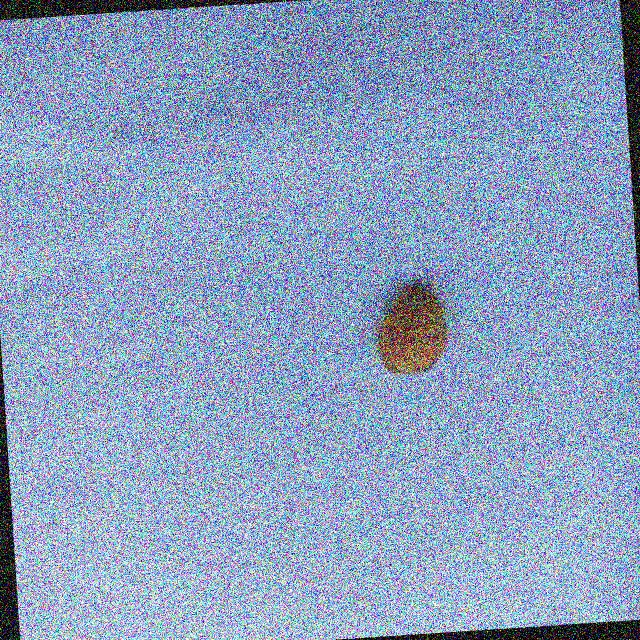grade2: (367, 279, 453, 380)
